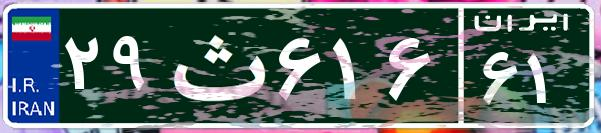1: (330, 28, 385, 110), (525, 38, 570, 115)
2: (57, 26, 110, 107)
6: (385, 28, 445, 110), (273, 28, 330, 110), (475, 38, 525, 113)
9: (110, 28, 158, 105)
ث: (158, 15, 273, 115)
